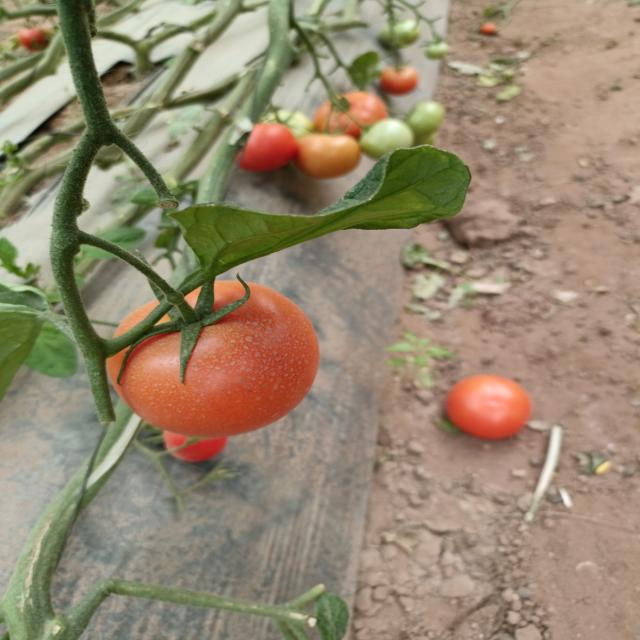Ripe Tomato: (102, 280, 322, 436), (449, 377, 530, 437), (318, 92, 391, 138), (234, 125, 297, 171), (300, 132, 358, 173)
Unripe Tomato: (360, 118, 411, 158)
